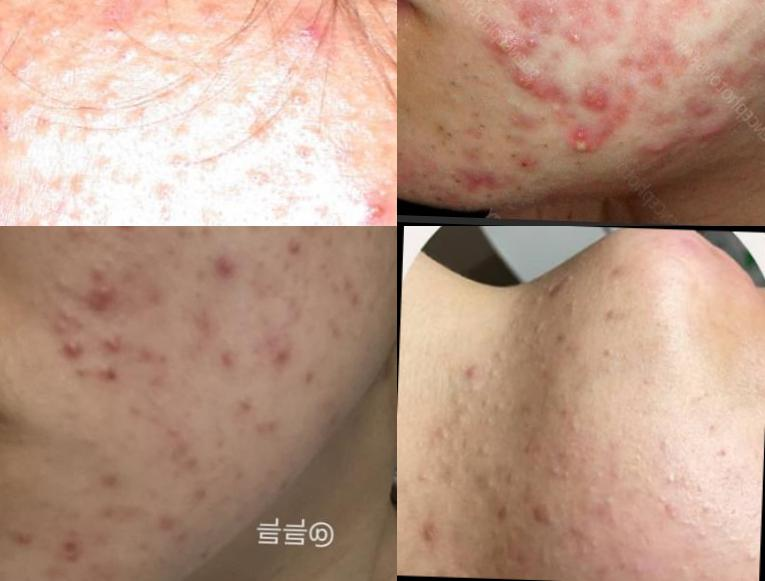blackhead: (232, 155, 266, 196), (283, 79, 313, 125), (166, 150, 196, 188), (149, 192, 179, 226), (430, 118, 458, 154), (471, 61, 505, 89), (462, 110, 495, 138), (442, 74, 467, 101), (1, 104, 17, 142), (476, 1, 504, 22), (99, 22, 123, 43), (497, 131, 520, 151), (414, 170, 437, 189), (450, 169, 467, 192), (456, 55, 477, 73), (533, 109, 552, 126), (513, 181, 530, 199), (464, 89, 481, 107), (538, 137, 555, 153), (481, 189, 497, 204), (509, 150, 524, 166)
keloid: (686, 118, 741, 158), (621, 138, 685, 164)
papular: (199, 246, 256, 285), (290, 11, 337, 51), (77, 284, 122, 323), (94, 328, 137, 363), (449, 361, 487, 396), (350, 193, 387, 227), (419, 518, 450, 556), (211, 341, 243, 374), (92, 358, 125, 386), (523, 510, 558, 534), (490, 501, 512, 530), (283, 234, 308, 259), (274, 340, 295, 369), (111, 227, 143, 237), (1, 189, 9, 227)
purulent: (562, 129, 602, 161), (57, 331, 88, 369), (539, 1, 568, 21), (564, 28, 586, 50)
sebo-crystan-conglo: (511, 67, 559, 107), (486, 28, 550, 57), (581, 89, 613, 116)
whitehead: (480, 331, 516, 394), (163, 20, 211, 59), (127, 115, 174, 152), (457, 433, 498, 472), (152, 56, 192, 95), (32, 17, 68, 50), (109, 37, 141, 73), (69, 427, 107, 457), (62, 166, 94, 198), (293, 138, 328, 167), (105, 163, 136, 195), (196, 149, 228, 178), (70, 101, 102, 128), (527, 314, 549, 351), (544, 463, 572, 492), (426, 424, 450, 456), (168, 117, 199, 141), (555, 297, 586, 321), (737, 547, 761, 575), (597, 491, 619, 519), (578, 538, 604, 561), (696, 493, 715, 524), (655, 465, 679, 489), (411, 467, 436, 489), (642, 489, 663, 508), (280, 216, 316, 227), (23, 215, 54, 227), (169, 119, 171, 121)
